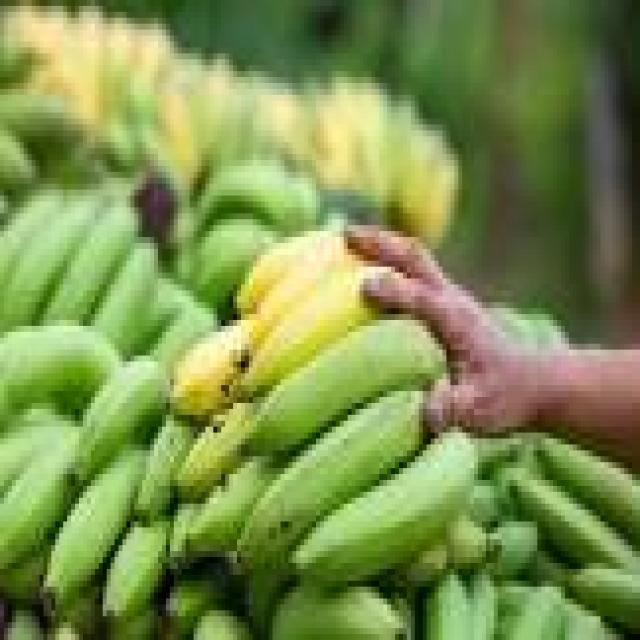banana: (238, 392, 422, 568), (293, 433, 478, 586), (253, 320, 442, 450), (241, 267, 375, 397), (44, 451, 146, 604), (510, 469, 639, 568), (0, 196, 94, 331), (0, 326, 118, 426), (76, 356, 169, 479), (257, 238, 363, 343), (538, 439, 639, 545), (0, 433, 79, 568), (44, 208, 138, 319), (190, 457, 276, 557), (198, 160, 319, 231), (194, 214, 276, 314), (170, 320, 252, 420), (238, 232, 335, 314), (91, 243, 158, 355), (0, 190, 63, 308), (178, 403, 256, 497), (273, 587, 406, 639), (103, 522, 169, 622), (400, 516, 489, 586), (135, 415, 193, 521), (0, 415, 75, 491), (569, 563, 639, 634), (0, 89, 79, 148), (151, 303, 217, 367), (245, 563, 292, 639), (166, 575, 221, 639), (143, 279, 193, 349), (423, 575, 470, 639), (510, 587, 564, 639), (0, 125, 39, 195), (0, 546, 47, 604), (490, 522, 537, 580), (52, 587, 102, 639), (498, 581, 537, 639), (447, 516, 489, 568), (467, 569, 497, 639), (479, 433, 529, 474), (0, 36, 35, 88), (467, 480, 505, 527), (170, 504, 197, 568), (565, 599, 608, 639), (526, 546, 568, 586), (107, 611, 161, 639), (194, 611, 248, 639), (4, 611, 47, 639)
